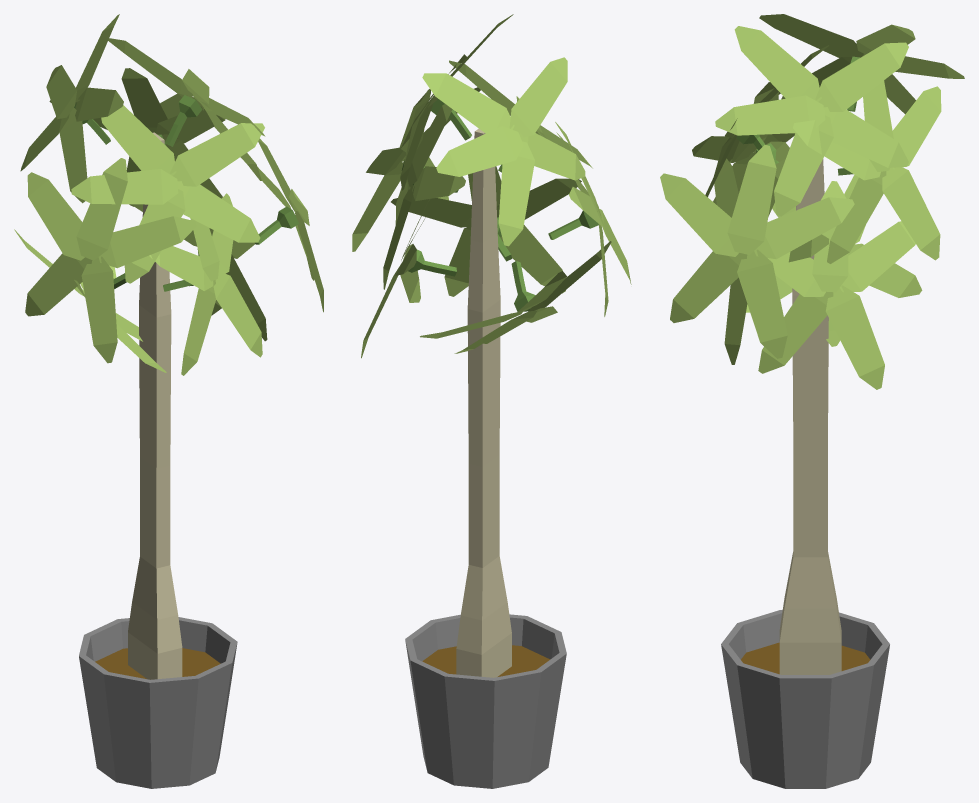
Rendered from plant_tall.dae.
The picture shows the model from 3 angles, left to right: view 1: azimuth 30°, elevation 25°; view 2: azimuth 150°, elevation 25°; view 3: azimuth 270°, elevation 25°; orthographic projection. The views are drawn at different scales.
Parts seen in each view (by area): view 1: IKEA_Plant_1; view 2: IKEA_Plant_1; view 3: IKEA_Plant_1.
Part boxes in pixels (x1,y1,x2,y2): IKEA_Plant_1: [14, 14, 323, 788]; IKEA_Plant_1: [352, 14, 631, 788]; IKEA_Plant_1: [660, 14, 964, 788].
Size of the model in its own units: 0.6517 by 0.619 by 1.66.
